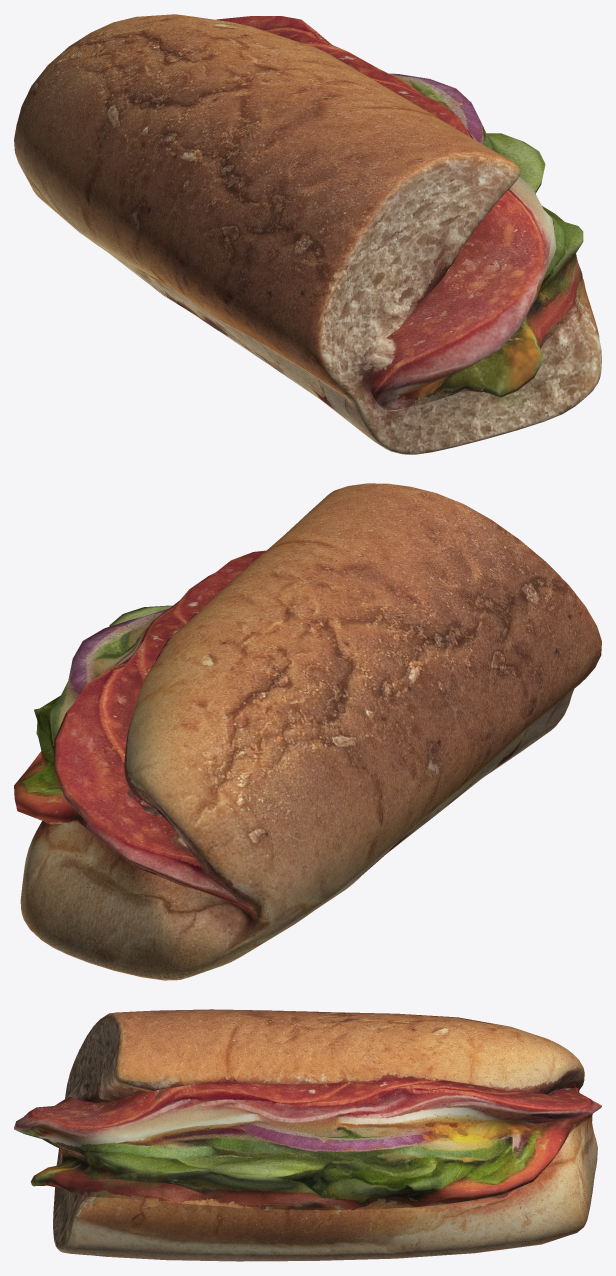
Rendered from caesar-salad.glb.
3 views of the same model, one above another, from view 1: azimuth 30°, elevation 25°; view 2: azimuth 150°, elevation 25°; view 3: azimuth 270°, elevation 25° (orthographic). The views are drawn at different scales.
Visible parts, largest first — view 1: Sub Sandwich; view 2: Sub Sandwich; view 3: Sub Sandwich.
Part boxes in pixels (box(x1,y1,x2,y2)): Sub Sandwich: box(14, 14, 601, 454); Sub Sandwich: box(14, 483, 601, 980); Sub Sandwich: box(14, 1009, 601, 1261).
Size of the model in its own units: 8.74 by 6.14 by 16.
Materials: 1 (1 with a texture image).
